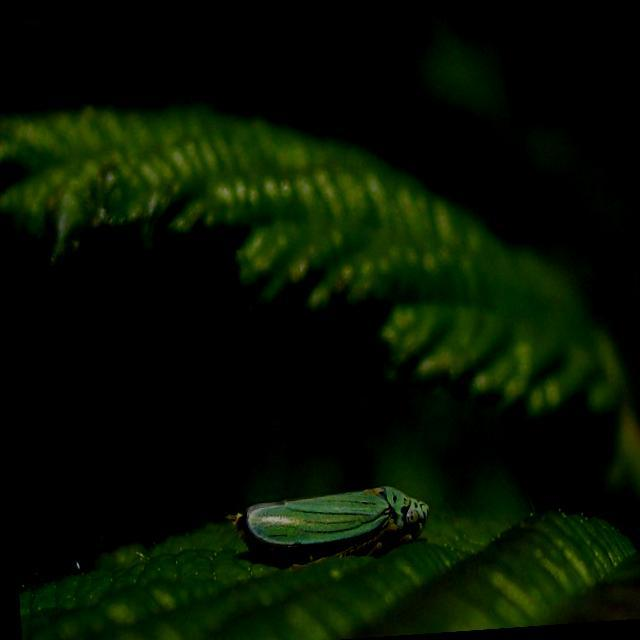green leaf hopper: (231, 487, 427, 568)
